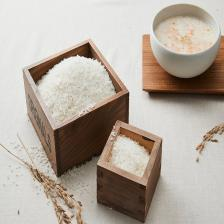rice: (36, 55, 116, 125), (108, 133, 150, 178)
